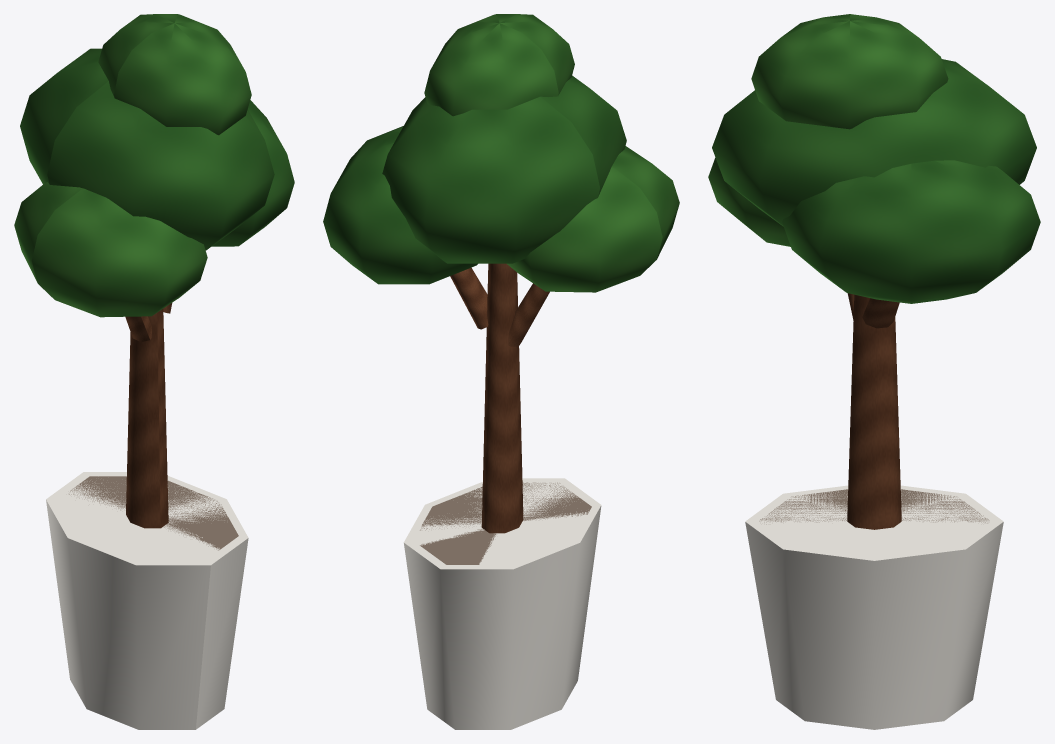
Rendered from indoor_potted_ficus.glb.
The picture shows the model from 3 angles, left to right: view 1: azimuth 30°, elevation 25°; view 2: azimuth 150°, elevation 25°; view 3: azimuth 270°, elevation 25°; orthographic projection. The views are drawn at different scales.
Visible parts, largest first — view 1: indoor_potted_ficus_ceramicVase, indoor_potted_ficus_foliageLight, indoor_potted_ficus_foliageDark, indoor_potted_ficus_woodWalnut, indoor_potted_ficus_soilDark; view 2: indoor_potted_ficus_foliageDark, indoor_potted_ficus_ceramicVase, indoor_potted_ficus_foliageLight, indoor_potted_ficus_woodWalnut, indoor_potted_ficus_soilDark; view 3: indoor_potted_ficus_foliageDark, indoor_potted_ficus_ceramicVase, indoor_potted_ficus_foliageLight, indoor_potted_ficus_woodWalnut, indoor_potted_ficus_soilDark.
Boxes of the visible parts, <box> form: indoor_potted_ficus_ceramicVase: <box>46,472,248,729</box>; indoor_potted_ficus_foliageLight: <box>14,14,251,317</box>; indoor_potted_ficus_foliageDark: <box>20,48,294,250</box>; indoor_potted_ficus_woodWalnut: <box>125,303,172,528</box>; indoor_potted_ficus_soilDark: <box>69,476,238,550</box>; indoor_potted_ficus_foliageDark: <box>323,75,626,284</box>; indoor_potted_ficus_ceramicVase: <box>403,478,601,729</box>; indoor_potted_ficus_foliageLight: <box>424,14,679,292</box>; indoor_potted_ficus_woodWalnut: <box>450,263,549,533</box>; indoor_potted_ficus_soilDark: <box>420,482,591,564</box>; indoor_potted_ficus_foliageDark: <box>712,59,1040,303</box>; indoor_potted_ficus_ceramicVase: <box>745,485,1003,729</box>; indoor_potted_ficus_foliageLight: <box>708,14,948,246</box>; indoor_potted_ficus_woodWalnut: <box>847,293,901,529</box>; indoor_potted_ficus_soilDark: <box>759,489,989,524</box>.
Size of what is drawn, in the model's own units: 0.65 by 1.48 by 0.65.
5 materials, 3 textured.
